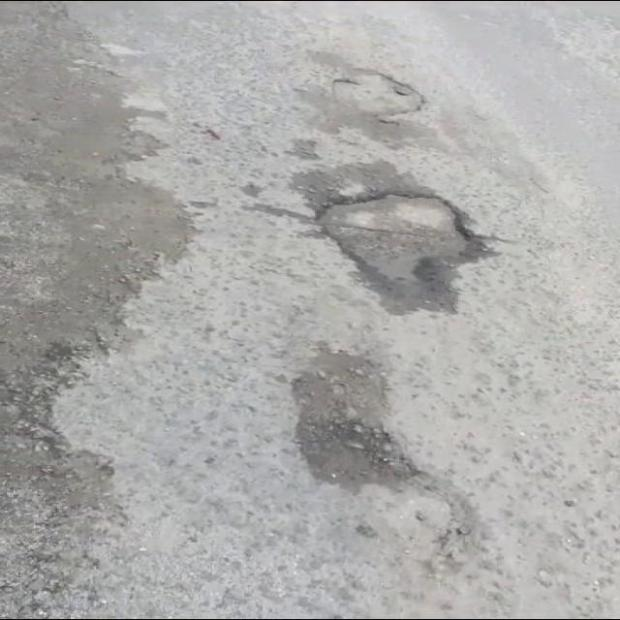lubang: (0, 4, 192, 616), (293, 350, 442, 495), (319, 192, 493, 313), (329, 69, 428, 145)
